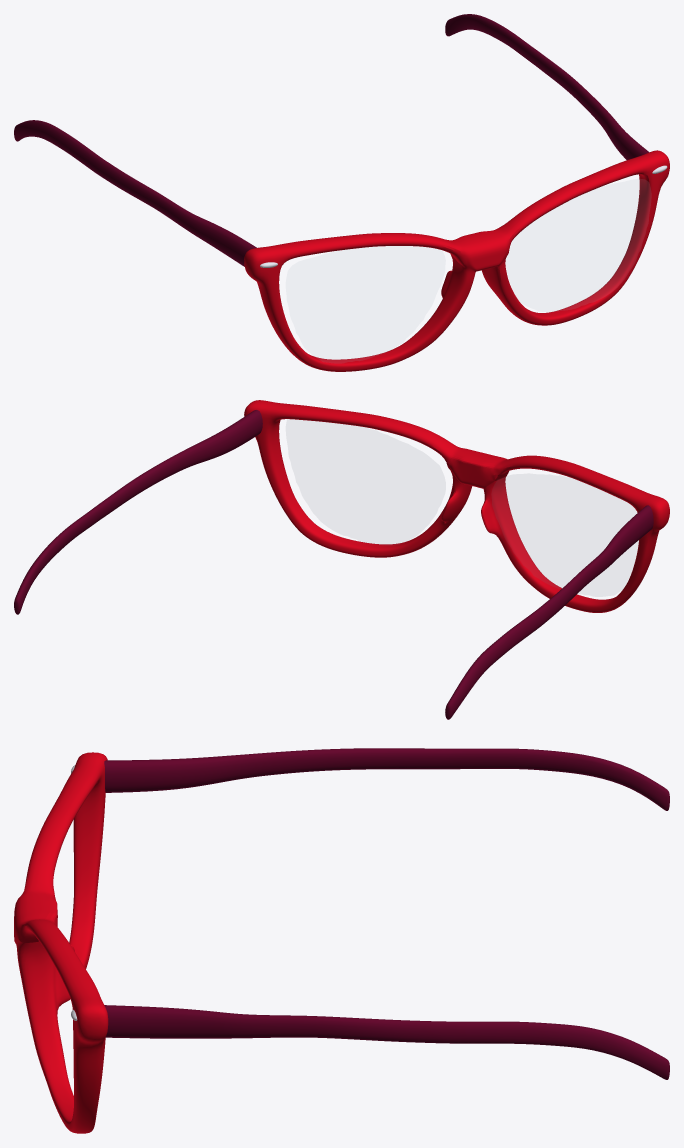
3 renders of one model, top to bottom at view 1: azimuth 30°, elevation 25°; view 2: azimuth 150°, elevation 25°; view 3: azimuth 270°, elevation 25°, orthographic. The views are drawn at different scales.
Visible parts, largest first — view 1: Cube, Cube_001; view 2: Cube, Cube_001; view 3: Cube_001, Cube.
Part boxes in pixels (x1,y1,x2,y2): Cube: [244, 150, 669, 371]; Cube_001: [14, 14, 648, 266]; Cube: [244, 400, 669, 612]; Cube_001: [14, 410, 653, 719]; Cube_001: [104, 748, 669, 1079]; Cube: [14, 752, 108, 1133].
Size of the model in its own units: 14.6 by 4.26 by 14.51.
